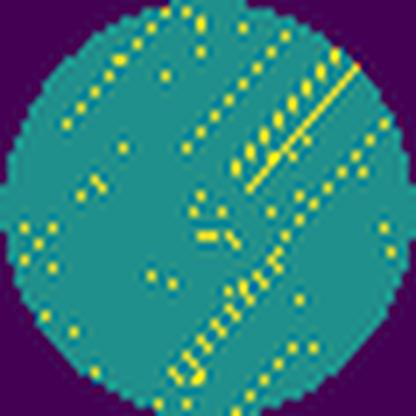Scratch: (158, 117, 392, 398), (236, 65, 361, 205), (176, 28, 299, 158), (57, 9, 172, 145)
